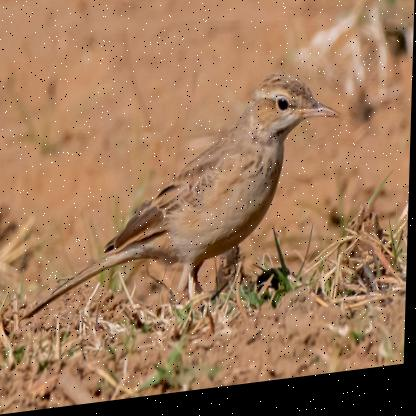Burung: (25, 74, 342, 327)
